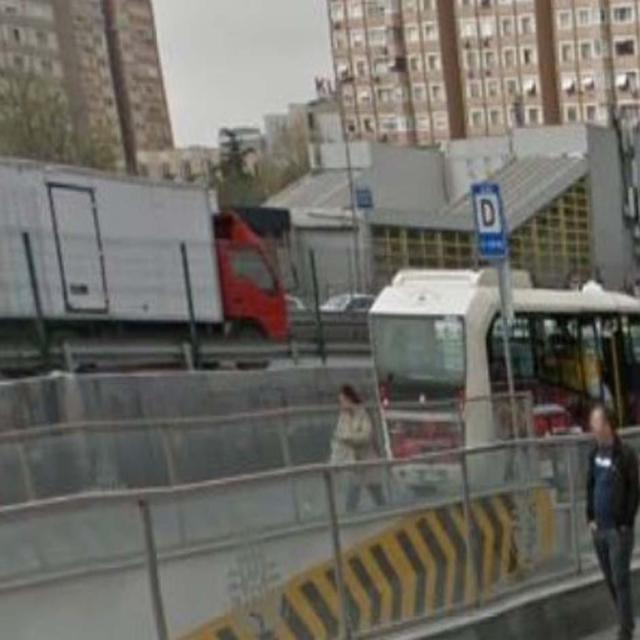durak: (470, 183, 504, 237)
